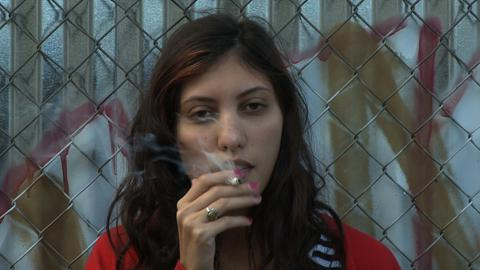smoking: (225, 175, 247, 189)
